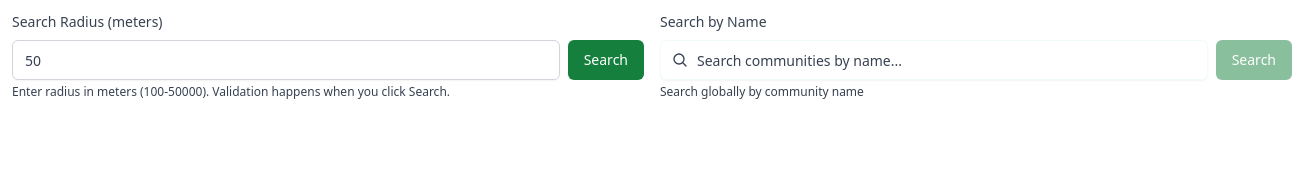
Test: CommunitySearchInput › Basic functionality › should validate radius range when search button is clicked
What coordinates should you click on to do the following:
click the 1st button "Search"
I would click on:
 (606, 60)
Its box is [568,40,644,80].
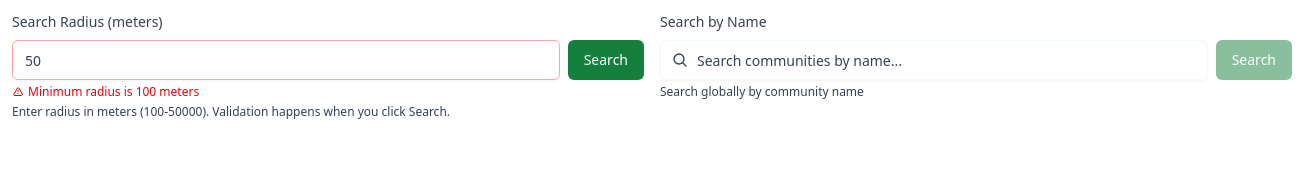
expect the text "Minimum radius is 100 meters" is shown: met, box [12,83,199,100]
